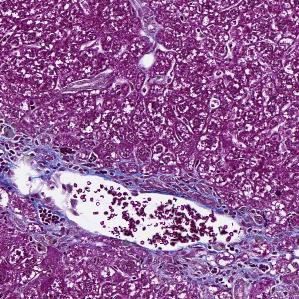fibrosis: (169, 248, 280, 293), (29, 197, 79, 250)
